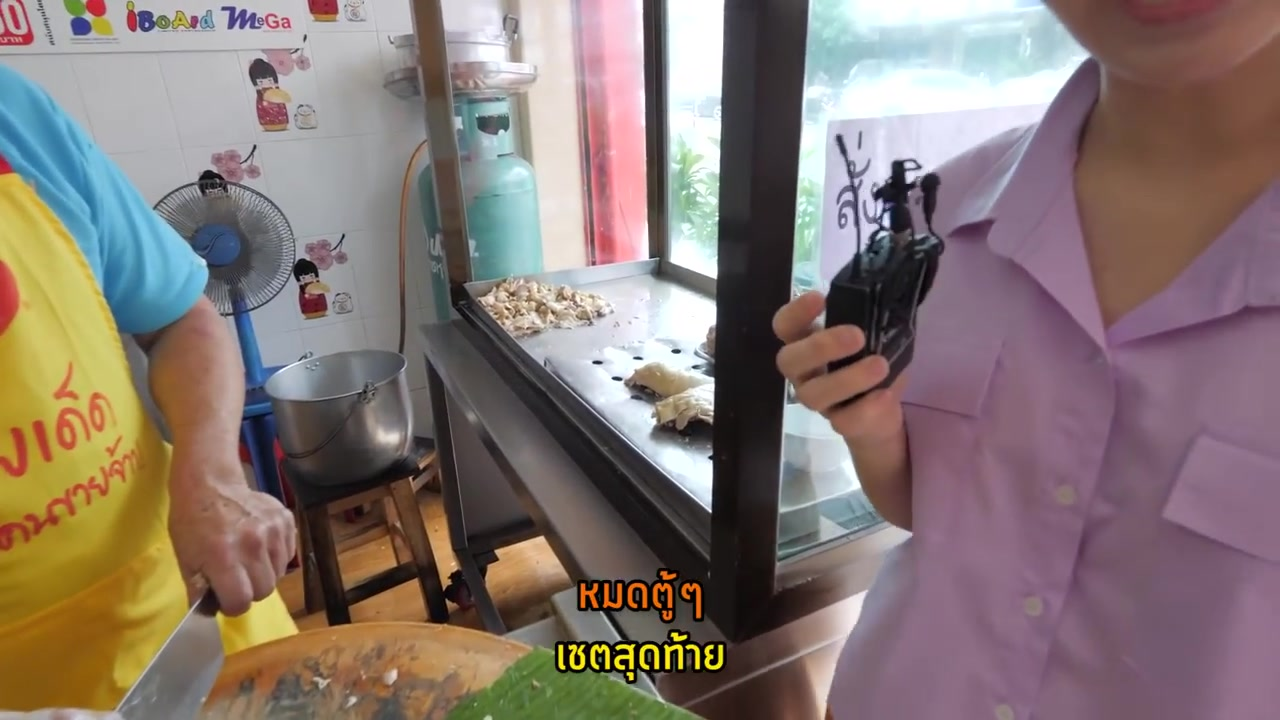text-label: (553, 627, 727, 689), (574, 564, 703, 622)
